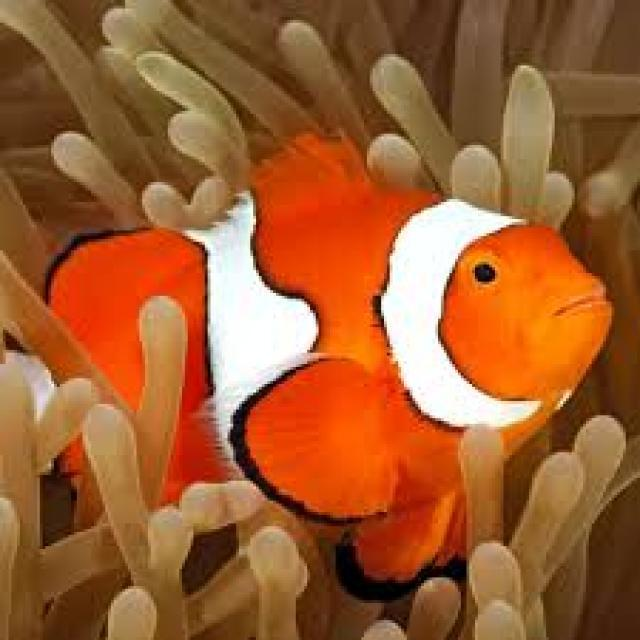ClownFish: (46, 140, 611, 603)
